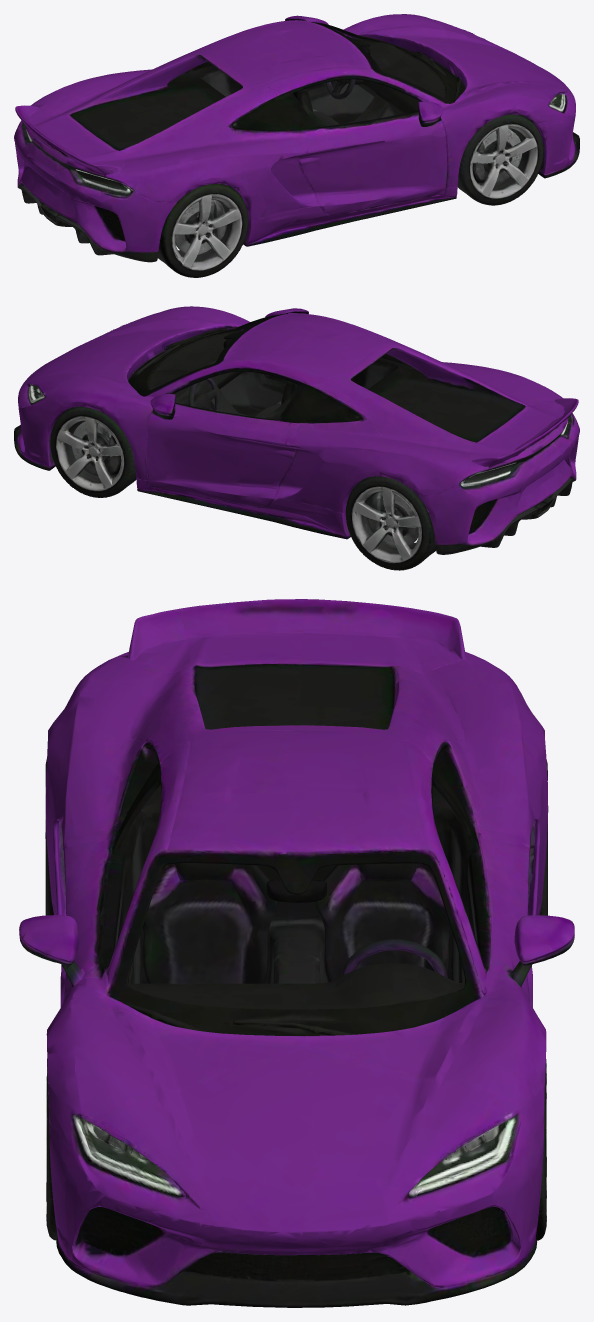
Rendered from car2.glb.
3 renders of one model, top to bottom at view 1: azimuth 30°, elevation 25°; view 2: azimuth 150°, elevation 25°; view 3: azimuth 270°, elevation 25°, orthographic. The views are drawn at different scales.
Parts seen in each view (by area): view 1: tripo_node_081b8799-0a4f-4054-b522-4c09957c77b3; view 2: tripo_node_081b8799-0a4f-4054-b522-4c09957c77b3; view 3: tripo_node_081b8799-0a4f-4054-b522-4c09957c77b3.
Boxes of the visible parts, bbox=[...] form: tripo_node_081b8799-0a4f-4054-b522-4c09957c77b3: bbox=[14, 14, 579, 277]; tripo_node_081b8799-0a4f-4054-b522-4c09957c77b3: bbox=[14, 306, 579, 570]; tripo_node_081b8799-0a4f-4054-b522-4c09957c77b3: bbox=[19, 599, 574, 1307].
Size of the model in its own units: 0.9809 by 0.277 by 0.4593.
Materials: 1 (1 with a texture image).
